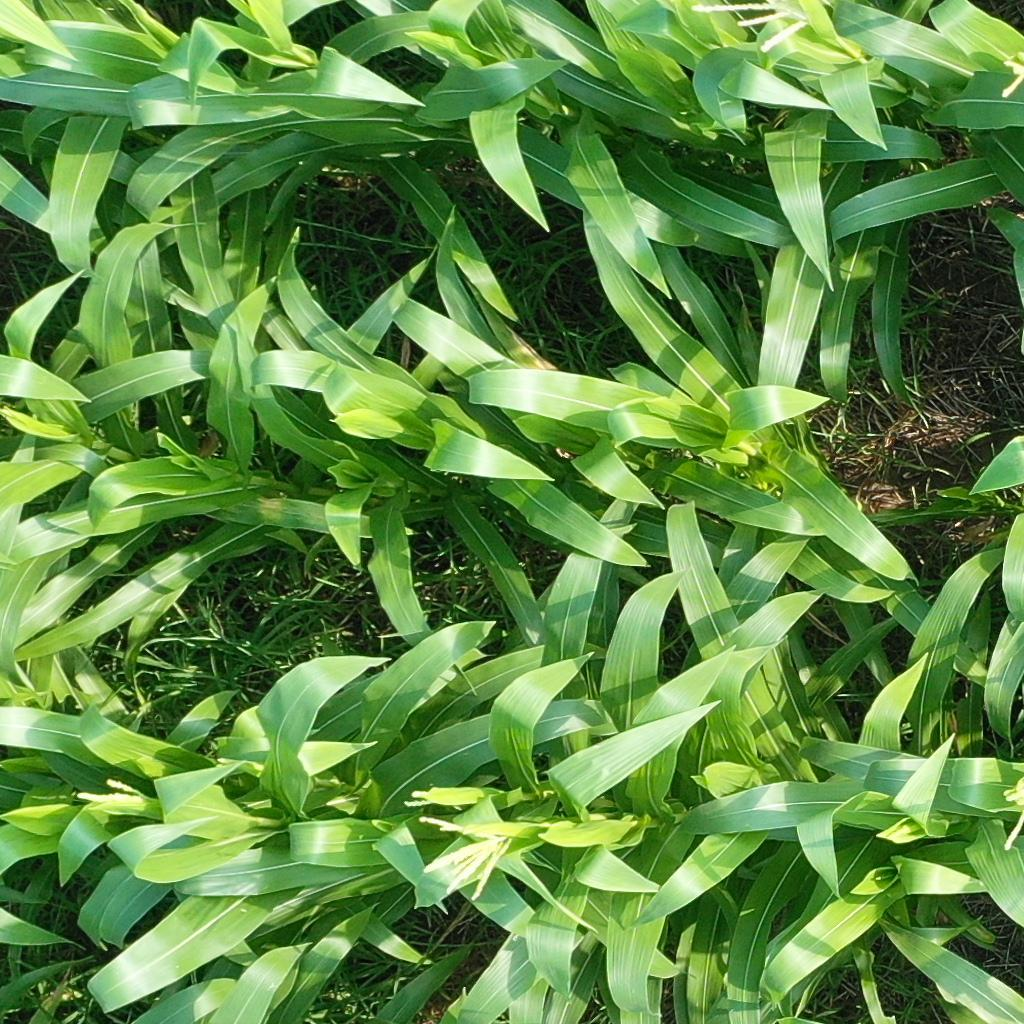Tassel: (414, 811, 516, 902), (689, 1, 815, 55), (74, 774, 146, 814), (992, 771, 1024, 851), (997, 47, 1024, 99), (403, 785, 439, 812)
